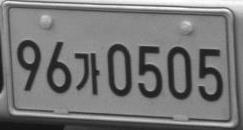0: (166, 45, 193, 100), (106, 43, 132, 97)
5: (137, 45, 163, 99), (198, 48, 223, 102)
6: (45, 40, 72, 94)
9: (16, 39, 41, 91)
가: (74, 52, 100, 95)
